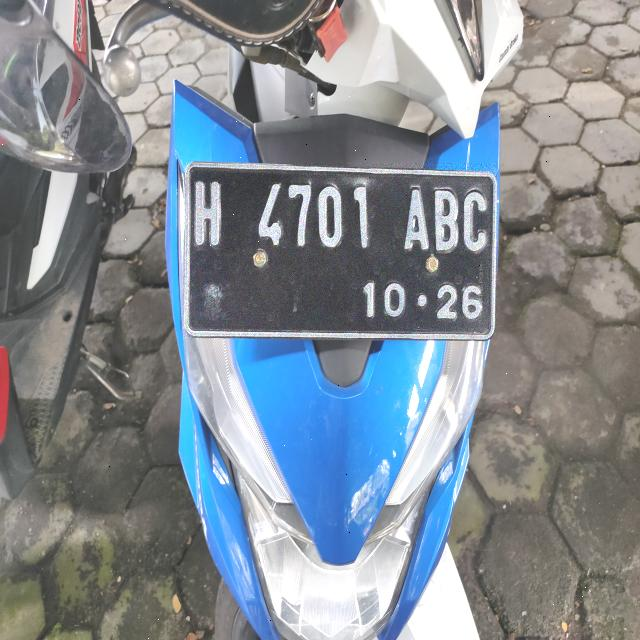plate: (183, 163, 496, 338)
